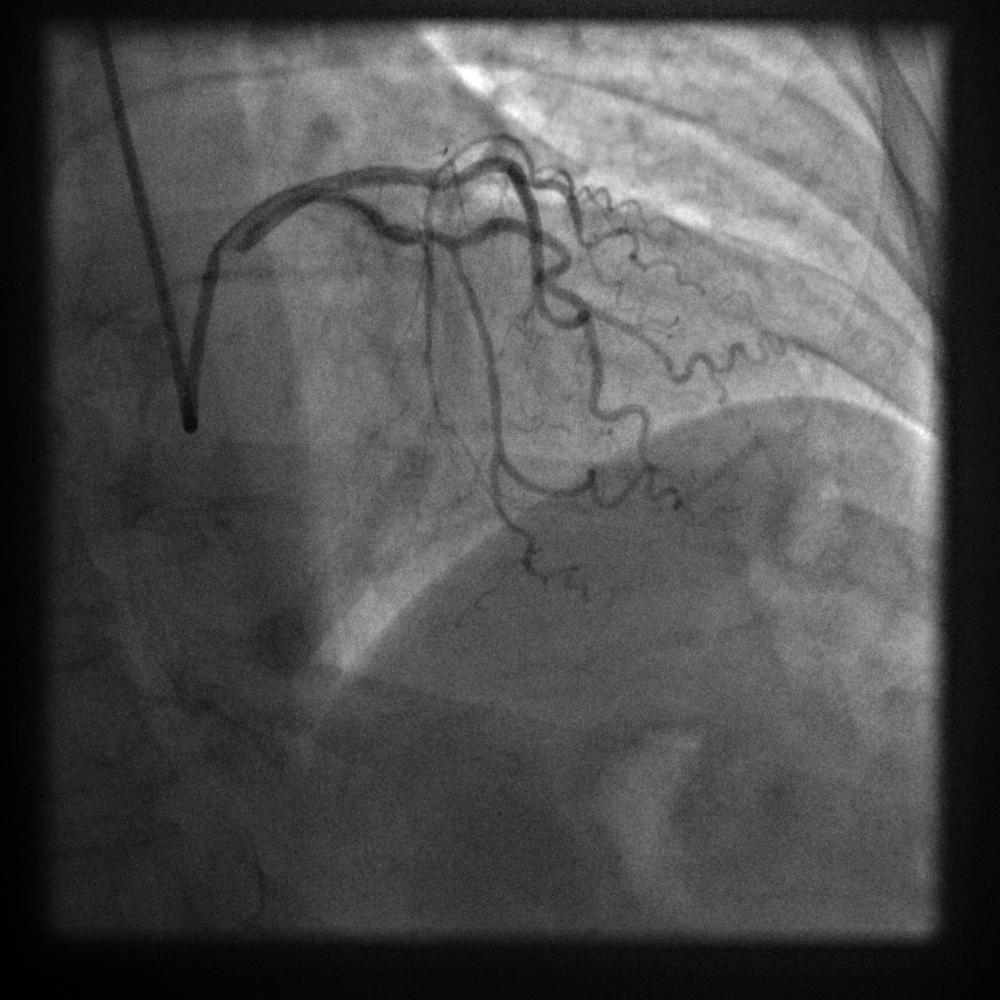Stenosis: (371, 218, 459, 251)
